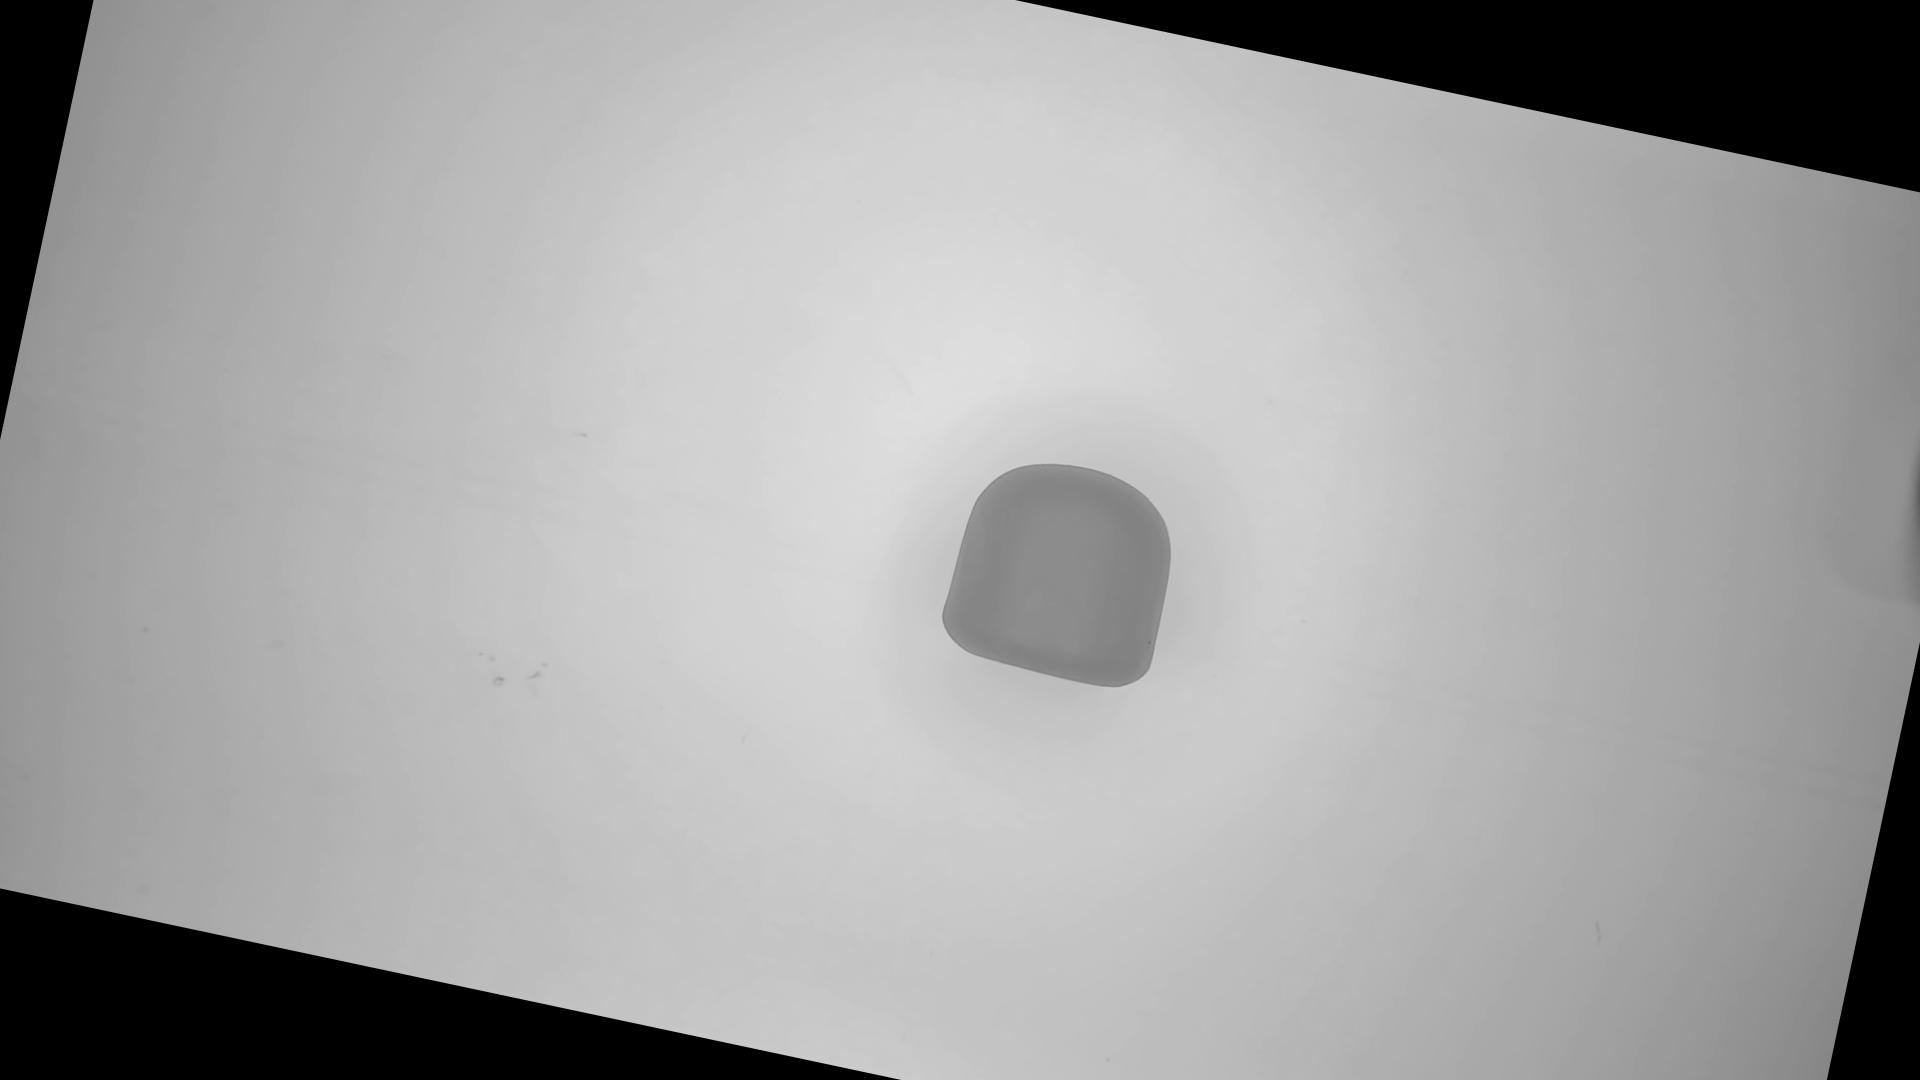normal: (932, 444, 1193, 700)
